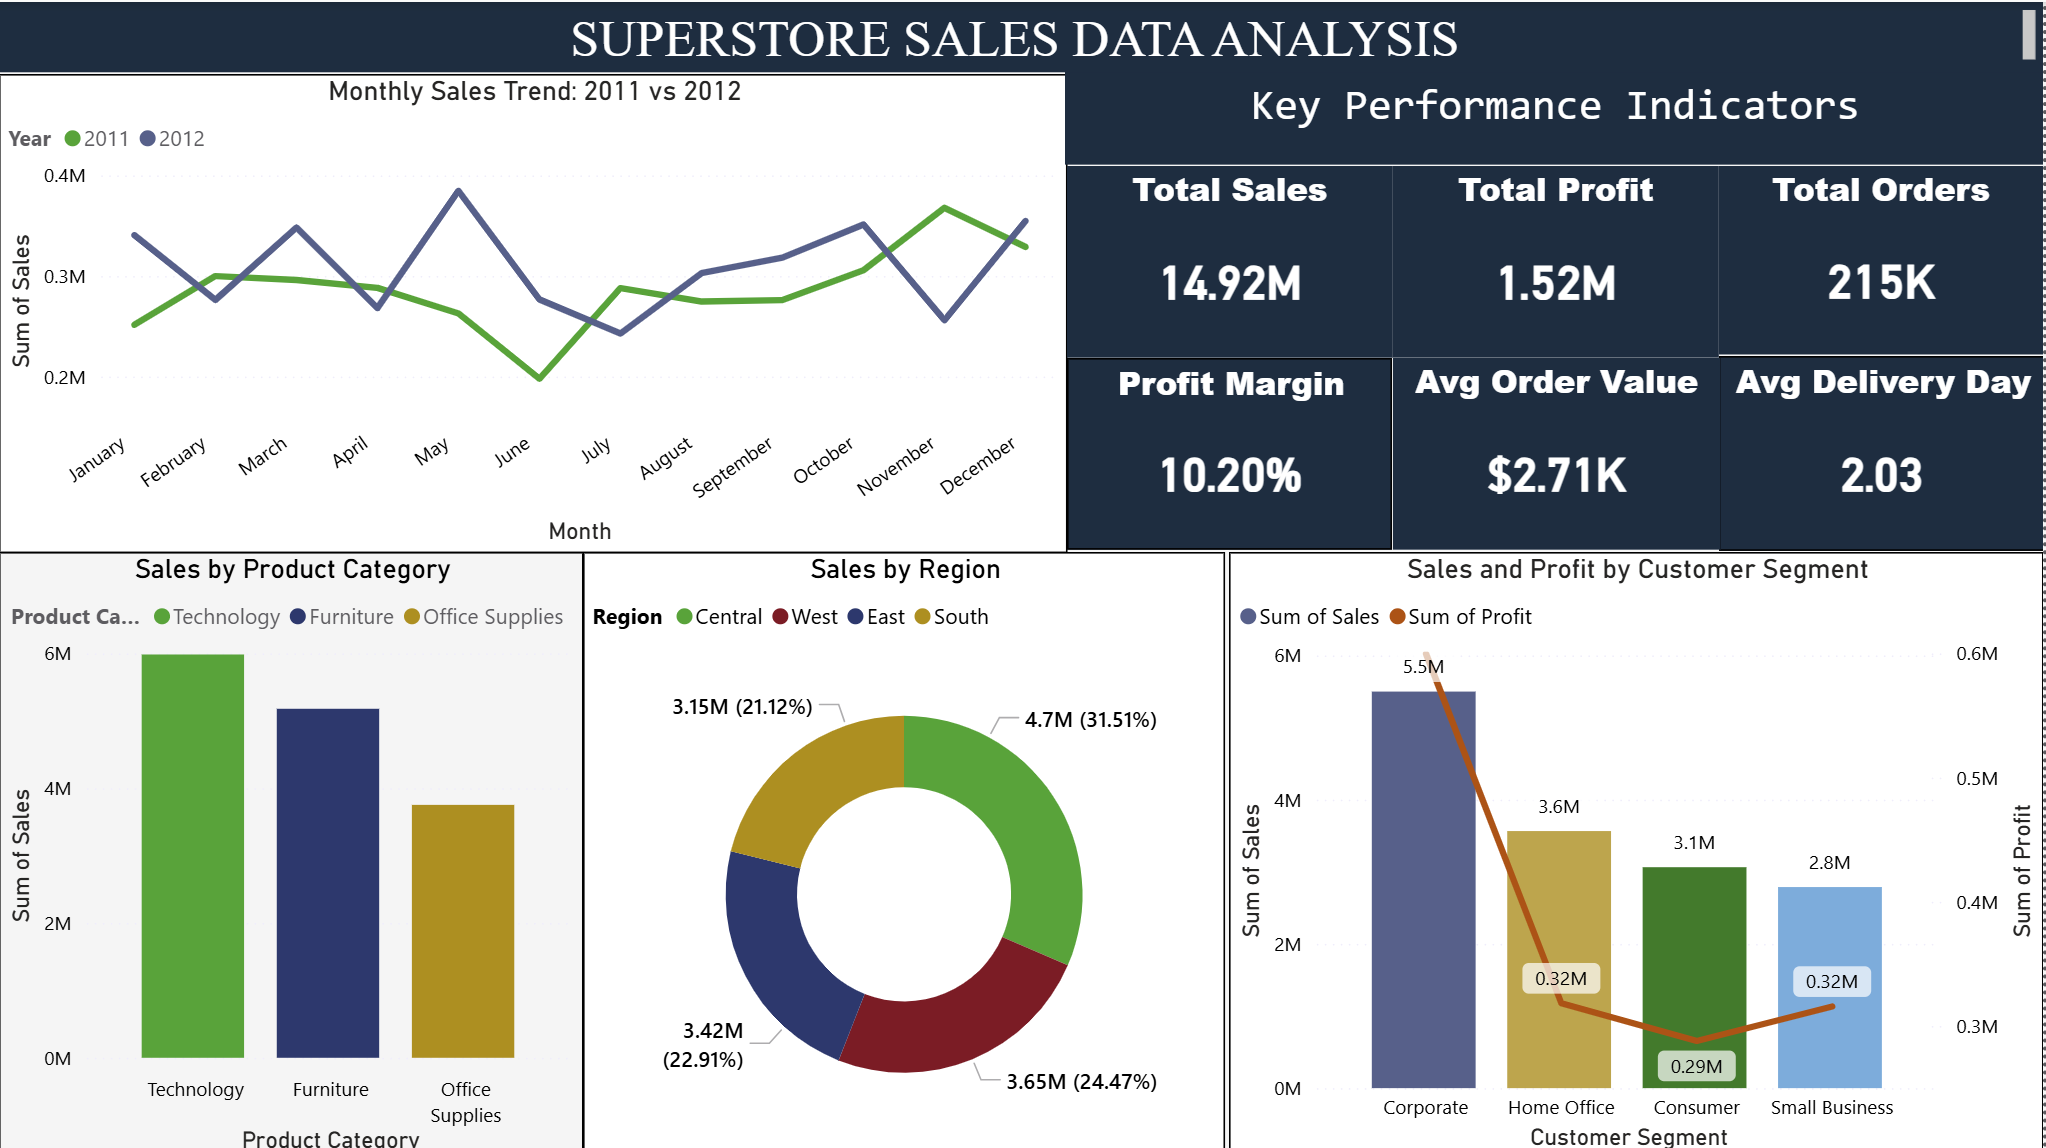

The dashboard page shown, as its layout file describes it:
{"tool":"powerbi","page":{"name":"Executive Overview","canvas":[1280,720],"ordinal":0},"visuals":[{"type":"columnChart","title":"Sales by Product Category ","fields":{"Category":["Orders.Product Category"],"Y":["Sum(Orders.Sales)"],"Series":["Orders.Product Category"]},"box":[0,344,366,382],"z":0},{"type":"areaChart","title":"Monthly Sales Trend: 2011 vs 2012","fields":{"Y":["Sum(Orders.Sales)"],"Category":["Orders.Order Date.Variation.Date Hierarchy.Month"],"Series":["Orders.Order Date.Variation.Date Hierarchy.Year"]},"box":[0,44.8,669,300.2],"z":1000},{"type":"card","title":"Avg Delivery Day","fields":{"Values":["Avg(Orders.Avg Delivery Days)"]},"box":[1077.1,221.3,204,122],"z":1000,"group":"g1"},{"type":"textbox","box":[668,44,614,58],"z":2000},{"type":"card","title":"Avg Order Value","fields":{"Values":["Orders.Avg Order Value"]},"box":[872.7,222.5,205,119.8],"z":3000,"group":"g1"},{"type":"donutChart","title":"Sales by Region","fields":{"Y":["Sum(Orders.Sales)"],"Category":["Orders.Region"]},"box":[366,344,402,380],"z":3000},{"type":"group","id":"g1","title":"Group 1","box":[669,102.7,612.1,240.6],"z":4000},{"type":"card","title":"Profit Margin","fields":{"Values":["Orders.Profit Margin"]},"box":[669,222.5,203.7,119.8],"z":5000,"group":"g1"},{"type":"lineStackedColumnComboChart","title":"Sales and Profit by Customer Segment","fields":{"Category":["Orders.Customer Segment"],"Y2":["Sum(Orders.Profit)"],"Y":["Sum(Orders.Sales)"]},"box":[770,344,510,380],"z":5000},{"type":"textbox","box":[0,0,1280,44],"z":6000},{"type":"card","title":"Total Sales","fields":{"Values":["Sum(Orders.Sales)"]},"box":[669,102.7,204,119.8],"z":7000,"group":"g1"},{"type":"card","title":"Total Profit","fields":{"Values":["Sum(Orders.Profit)"]},"box":[872.7,102.7,204,119.8],"z":8000,"group":"g1"},{"type":"card","title":"Total Orders","fields":{"Values":["Sum(Orders.Order Quantity)"]},"box":[1077.1,102.7,203,118],"z":10000,"group":"g1"}]}

Visuals, with their boxes in screenshot pixels (x1, y1, x2, y2), scaled from the page's 1280x720 canvas onto the 2046x1148 screenshot:
"Sales by Product Category " columnChart: rect(0, 548, 585, 1147)
"Monthly Sales Trend: 2011 vs 2012" areaChart: rect(0, 71, 1069, 550)
"Avg Delivery Day" card: rect(1722, 353, 2045, 547)
textbox: rect(1068, 70, 2045, 163)
"Avg Order Value" card: rect(1395, 355, 1723, 546)
"Sales by Region" donutChart: rect(585, 548, 1228, 1147)
"Group 1" group: rect(1069, 164, 2045, 547)
"Profit Margin" card: rect(1069, 355, 1395, 546)
"Sales and Profit by Customer Segment" lineStackedColumnComboChart: rect(1231, 548, 2045, 1147)
textbox: rect(0, 0, 2045, 70)
"Total Sales" card: rect(1069, 164, 1395, 355)
"Total Profit" card: rect(1395, 164, 1721, 355)
"Total Orders" card: rect(1722, 164, 2045, 352)
